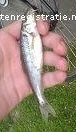Gobio gobio: (20, 15, 56, 117)
